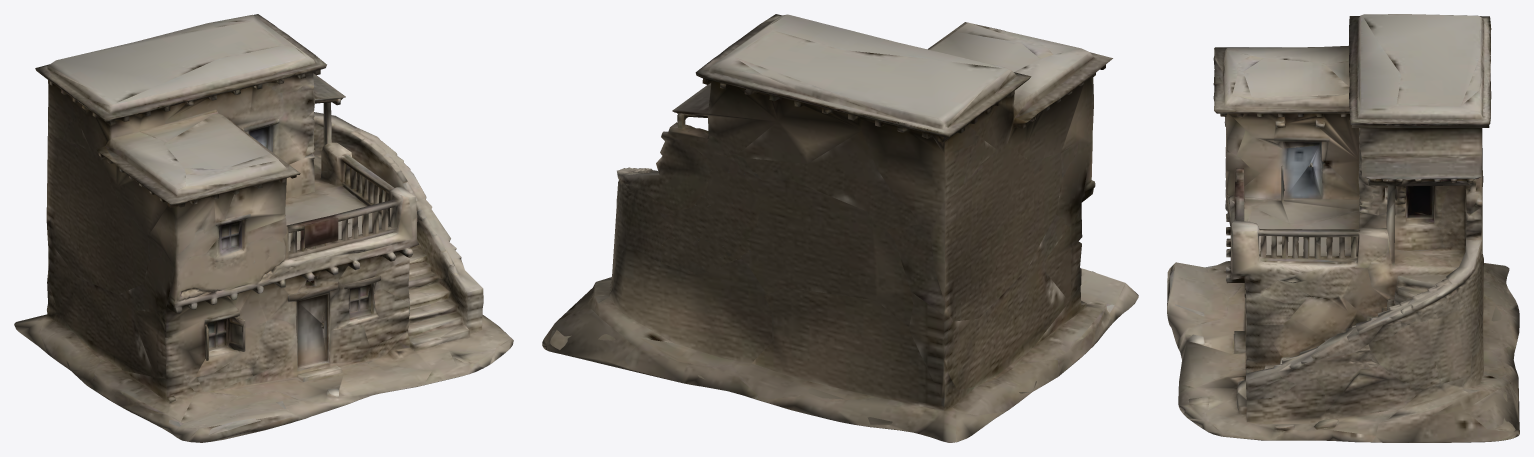
File: house_05.glb
3 renders of one model, left to right at view 1: azimuth 30°, elevation 25°; view 2: azimuth 150°, elevation 25°; view 3: azimuth 270°, elevation 25°, orthographic. The views are drawn at different scales.
Visible parts, largest first — view 1: node_0; view 2: node_0; view 3: node_0.
Part boxes in pixels (left/top/right/bottom): node_0: left=14, top=14, right=513, bottom=442; node_0: left=542, top=14, right=1138, bottom=442; node_0: left=1167, top=14, right=1519, bottom=442.
Bounding box in the file's own units: 0.8515 × 0.5816 × 0.7013.
1 material, 1 textured.
